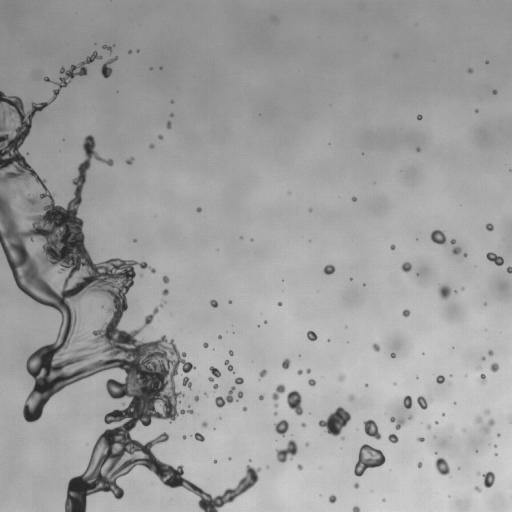droplet: (354, 444, 385, 476), (318, 406, 351, 436), (275, 440, 297, 463), (286, 390, 303, 415), (363, 419, 381, 439), (435, 457, 450, 475), (438, 285, 457, 299), (274, 419, 289, 436), (430, 229, 446, 244), (481, 471, 495, 487), (417, 395, 431, 409), (390, 417, 404, 429), (482, 419, 494, 433), (209, 366, 220, 381), (403, 395, 412, 409), (306, 330, 317, 341), (323, 264, 335, 274), (401, 262, 411, 272), (388, 433, 398, 443), (193, 432, 204, 441), (490, 362, 499, 372), (282, 358, 290, 369), (452, 246, 461, 254), (436, 375, 445, 383), (478, 373, 485, 383), (485, 223, 493, 231), (402, 309, 410, 317), (259, 369, 267, 377), (475, 416, 483, 424), (328, 495, 336, 503), (162, 275, 169, 283), (210, 299, 217, 307), (372, 343, 379, 351), (235, 377, 243, 384), (103, 45, 112, 51), (237, 391, 243, 400), (126, 157, 133, 164), (308, 379, 315, 386), (162, 289, 169, 295), (338, 374, 344, 381), (348, 394, 354, 401), (474, 486, 481, 492), (352, 506, 360, 511), (201, 421, 207, 427), (44, 76, 51, 81), (166, 121, 171, 128), (506, 266, 511, 273), (417, 114, 422, 120), (390, 244, 395, 250), (228, 350, 233, 356), (488, 350, 493, 356), (484, 409, 489, 415), (297, 464, 302, 470), (417, 437, 424, 441), (203, 342, 208, 347), (390, 353, 395, 358), (297, 369, 302, 374), (213, 384, 218, 389), (301, 422, 306, 427), (417, 462, 422, 467), (354, 483, 359, 488), (468, 68, 472, 73), (492, 90, 497, 94), (158, 135, 163, 139), (149, 144, 154, 148), (197, 207, 201, 212), (451, 239, 455, 244), (277, 302, 282, 306), (306, 368, 310, 373), (259, 395, 264, 399), (194, 396, 198, 401), (407, 415, 412, 419), (352, 197, 356, 201), (242, 407, 246, 411), (182, 435, 186, 439), (416, 148, 420, 151), (427, 424, 430, 428), (213, 460, 217, 463), (475, 109, 478, 112), (308, 208, 311, 211), (133, 239, 136, 242), (464, 253, 467, 256), (218, 335, 221, 338), (482, 357, 485, 360), (274, 412, 277, 415), (341, 436, 344, 439), (129, 50, 131, 53), (486, 60, 488, 63), (170, 114, 173, 116), (478, 366, 480, 369), (365, 384, 368, 386), (435, 421, 437, 424), (497, 434, 500, 436), (305, 443, 308, 445), (494, 444, 496, 447), (509, 485, 511, 488), (171, 100, 173, 102), (350, 278, 352, 280), (264, 321, 266, 323), (442, 413, 444, 415), (249, 459, 251, 461)
ligament: (0, 51, 259, 511), (214, 386, 235, 407), (101, 57, 117, 78), (272, 384, 285, 407), (486, 252, 503, 265), (224, 360, 234, 372), (510, 419, 511, 423)
